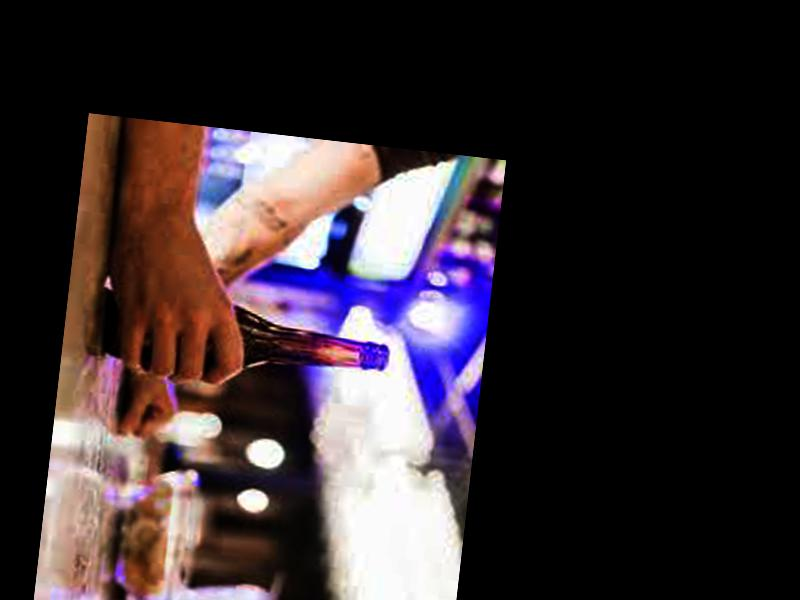Beer: (102, 292, 392, 386)
